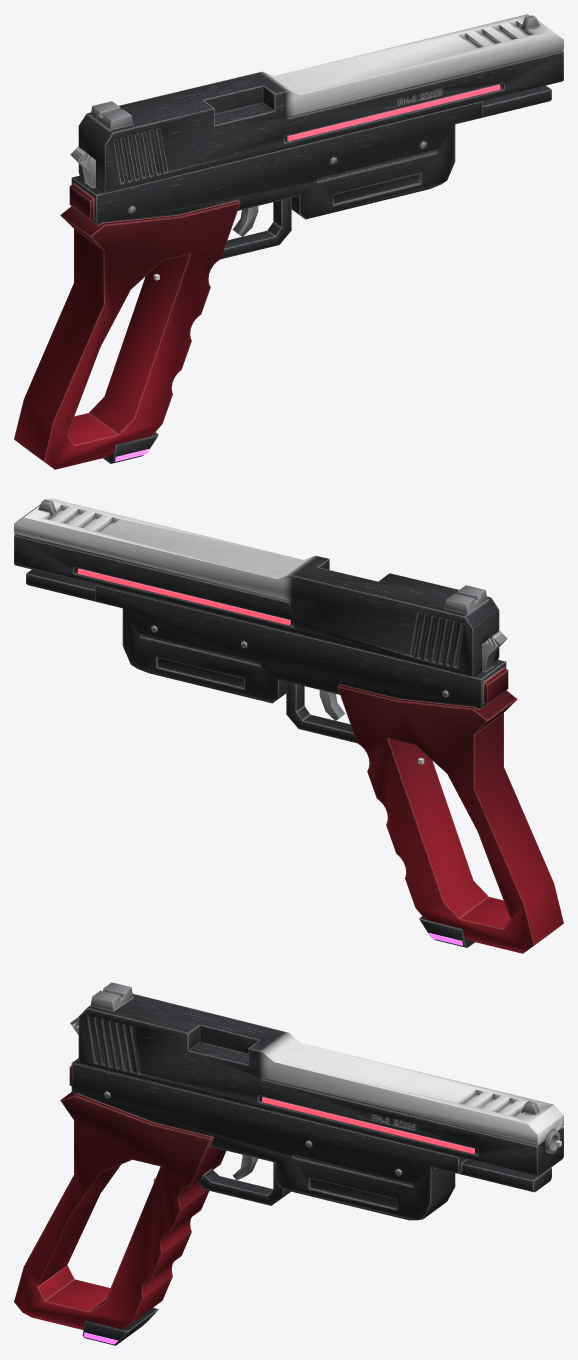
File: PM8_Modelo.glb
3 renders of one model, top to bottom at view 1: azimuth 30°, elevation 25°; view 2: azimuth 150°, elevation 25°; view 3: azimuth 330°, elevation 25°, orthographic.
Parts seen in each view (by area): view 1: PM8_Cuerpo, PM8_Palanca, PM8_PalancaNeon, PM8_Cargador; view 2: PM8_Cuerpo, PM8_Palanca, PM8_PalancaNeon, PM8_Cargador; view 3: PM8_Cuerpo, PM8_Palanca, PM8_PalancaNeon, PM8_Cargador.
Boxes of the visible parts, x1=… form: PM8_Cuerpo: x1=14, y1=85, x2=551, y2=469; PM8_Palanca: x1=78, y1=14, x2=563, y2=193; PM8_PalancaNeon: x1=287, y1=84, x2=500, y2=141; PM8_Cargador: x1=103, y1=432, x2=158, y2=463; PM8_Cuerpo: x1=26, y1=569, x2=563, y2=953; PM8_Palanca: x1=14, y1=498, x2=499, y2=677; PM8_PalancaNeon: x1=77, y1=568, x2=290, y2=625; PM8_Cargador: x1=419, y1=916, x2=474, y2=947; PM8_Cuerpo: x1=14, y1=1017, x2=560, y2=1329; PM8_Palanca: x1=78, y1=982, x2=563, y2=1176; PM8_PalancaNeon: x1=262, y1=1097, x2=474, y2=1153; PM8_Cargador: x1=82, y1=1307, x2=158, y2=1345.
Bounding box in the file's own units: 0.2666 × 0.163 × 0.0276.
Materials: 3 (1 with a texture image).
